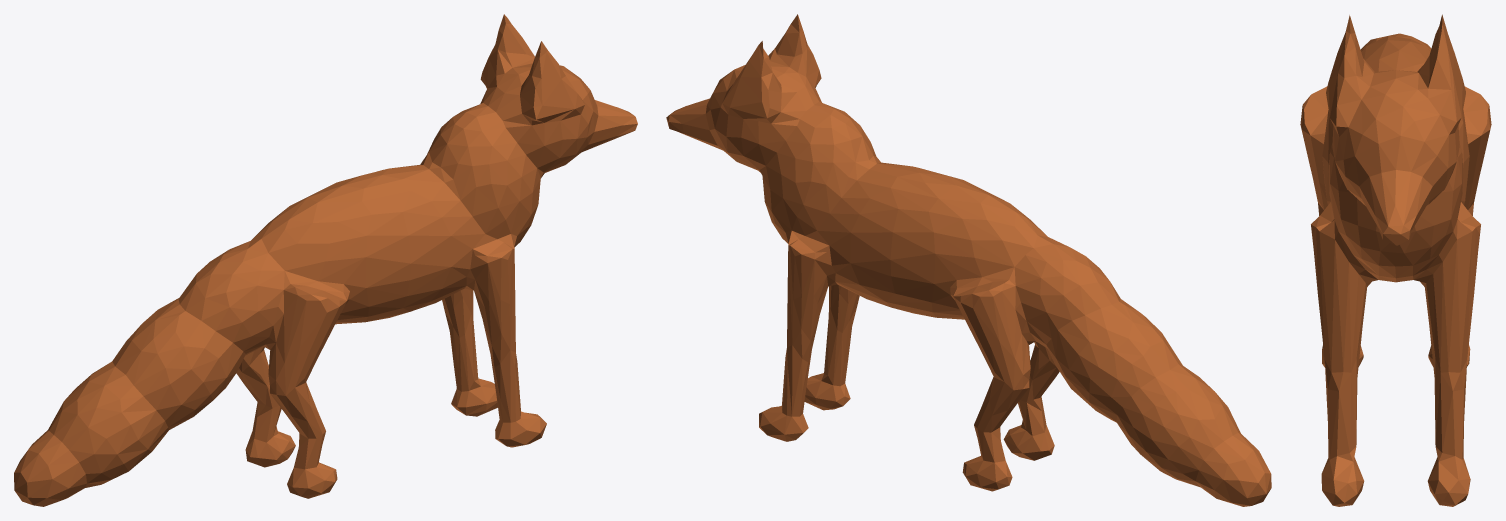
The model's file is NEW_RECOVERY_041_LOD0.fbx.
3 renders of one model, left to right at view 1: azimuth 30°, elevation 25°; view 2: azimuth 150°, elevation 25°; view 3: azimuth 270°, elevation 25°, orthographic. The views are drawn at different scales.
Parts seen in each view (by area): view 1: Fox_LOD0; view 2: Fox_LOD0; view 3: Fox_LOD0.
Part boxes in pixels (<box>): Fox_LOD0: <box>14,14,637,506</box>; Fox_LOD0: <box>666,14,1271,506</box>; Fox_LOD0: <box>1300,14,1491,506</box>.
Bounding box in the file's own units: 340 × 72.36 × 210.
